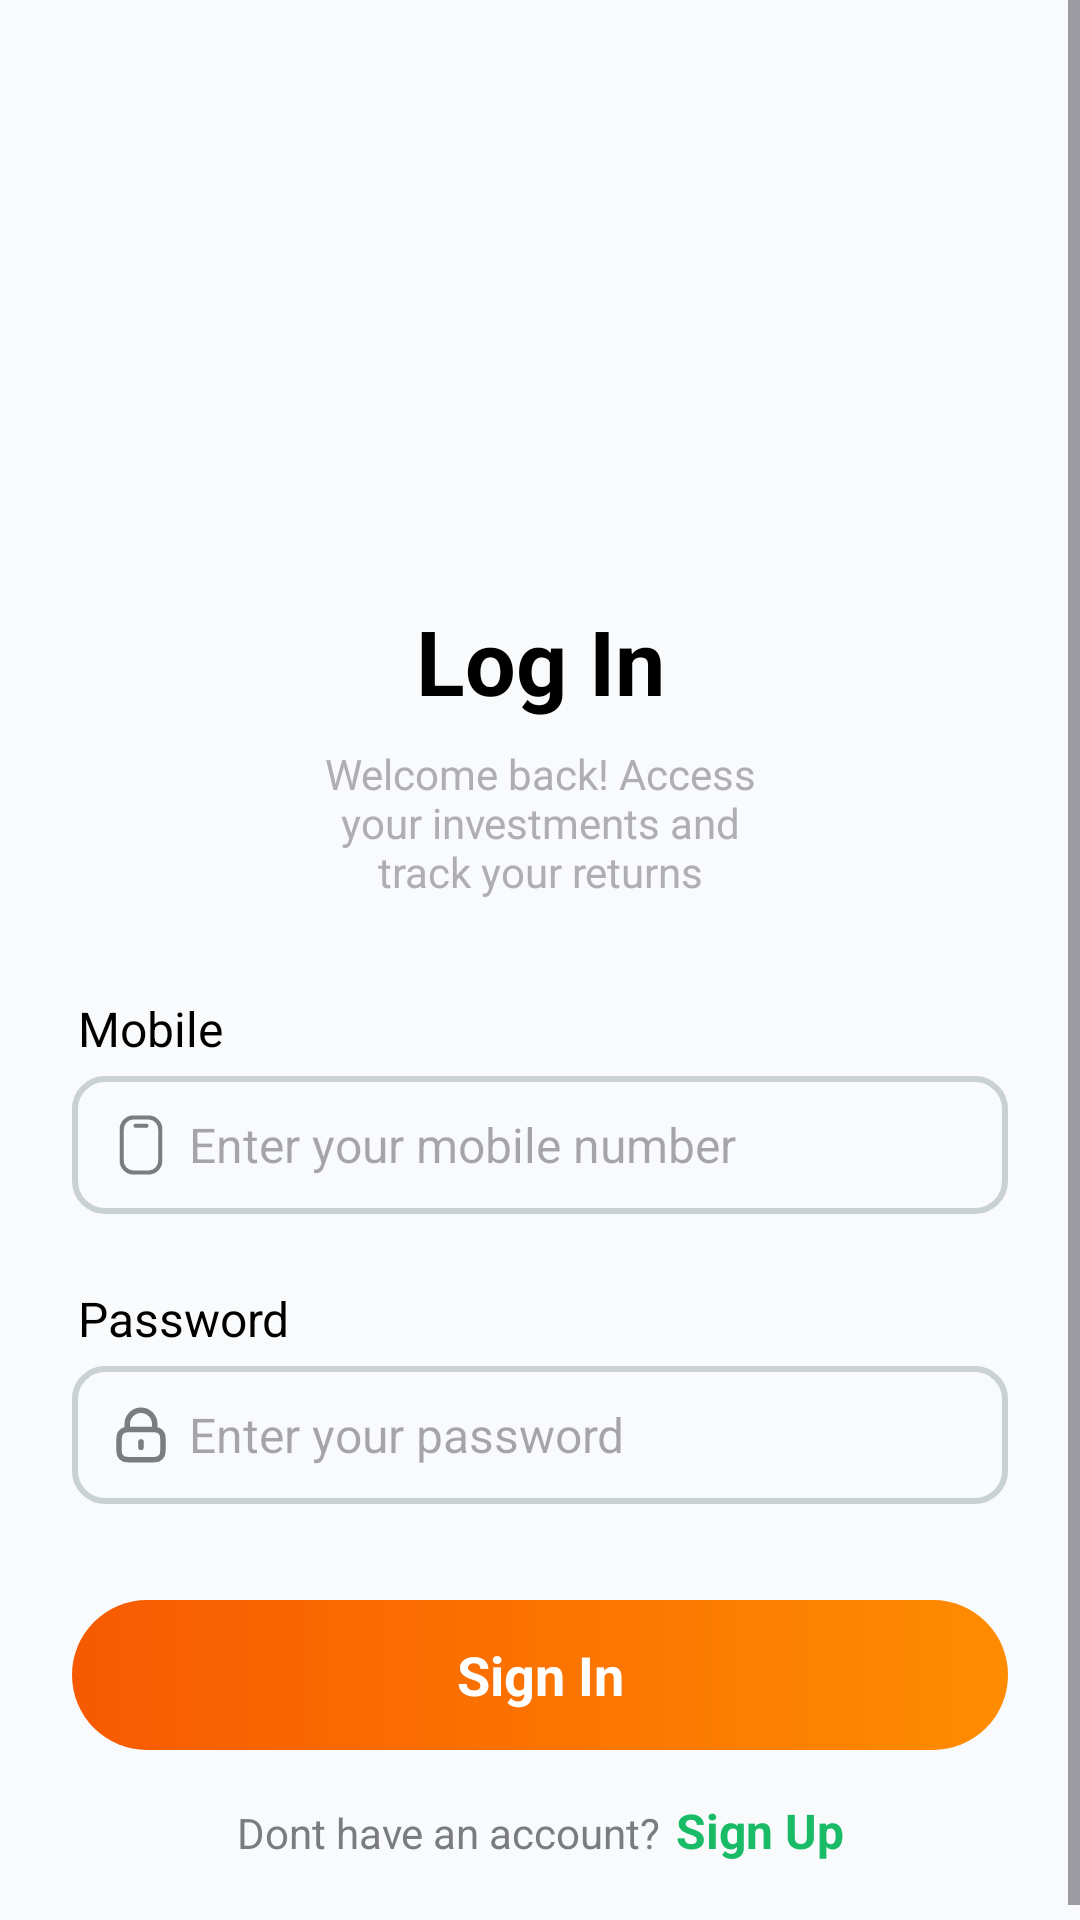

Icons on this 1080 × 1920 Android screen, each with the point to tap as (x=x, y=y):
lock: (x=141, y=1435)
phone: (x=141, y=1145)
